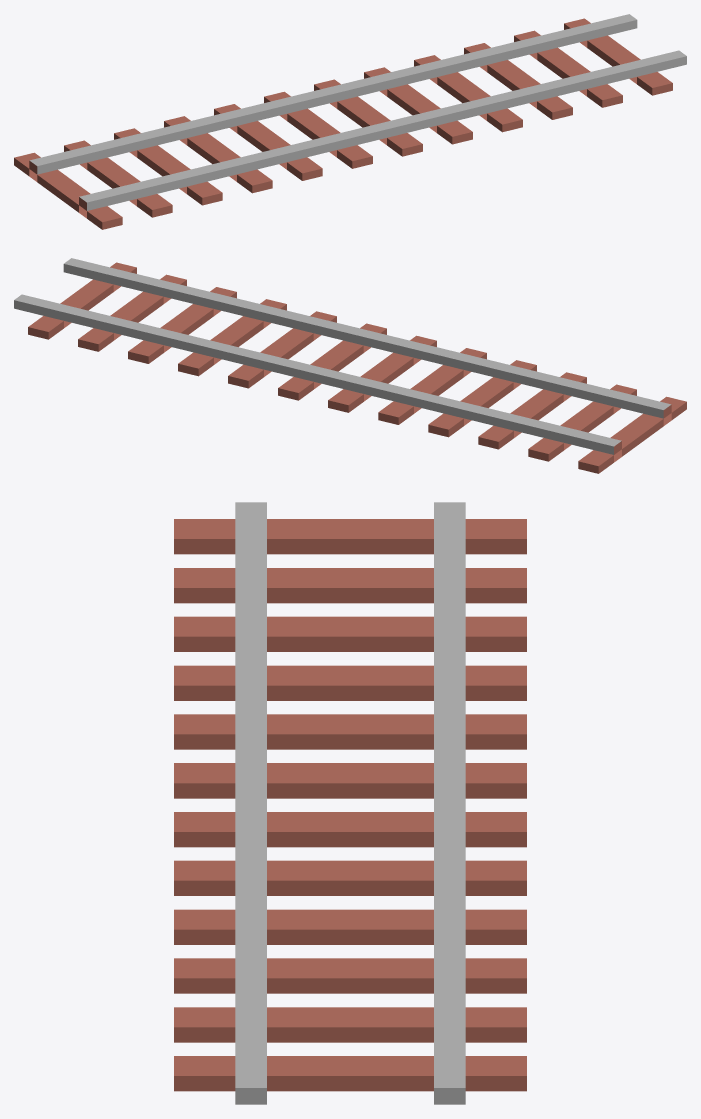
The model's file is rail.fbx.
The picture shows the model from 3 angles, top to bottom: view 1: azimuth 30°, elevation 25°; view 2: azimuth 150°, elevation 25°; view 3: azimuth 270°, elevation 25°; orthographic projection. The views are drawn at different scales.
Visible parts, largest first — view 1: rail; view 2: rail; view 3: rail.
Part boxes in pixels (x1=…): rail: x1=14, y1=14, x2=686, y2=229; rail: x1=14, y1=258, x2=686, y2=473; rail: x1=174, y1=502, x2=526, y2=1104.
Bounding box in the file's own units: 5.88 × 0.1508 × 1.5.
